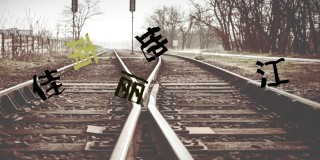丽: (114, 71, 148, 104)
佳: (31, 69, 66, 101)
南: (65, 33, 99, 70)
地: (134, 26, 169, 62)
江: (255, 58, 290, 88)
